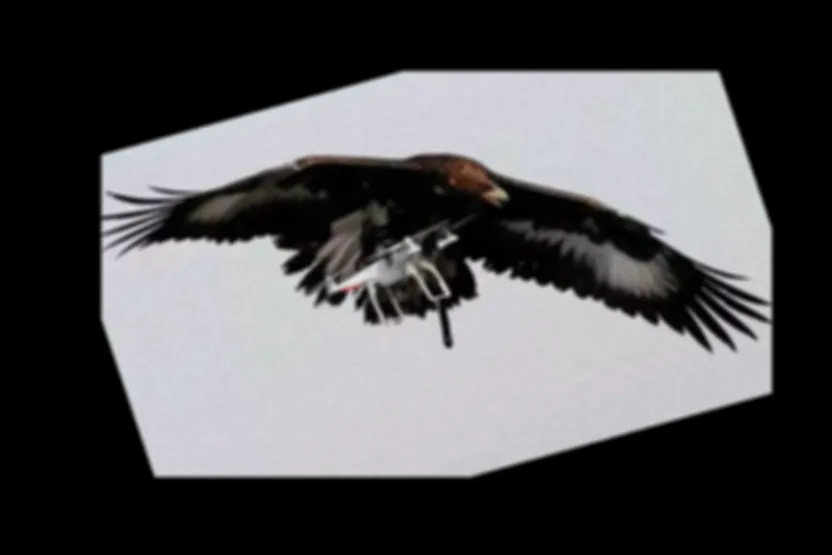Bird: (105, 114, 772, 362)
UAV: (332, 227, 463, 315)
